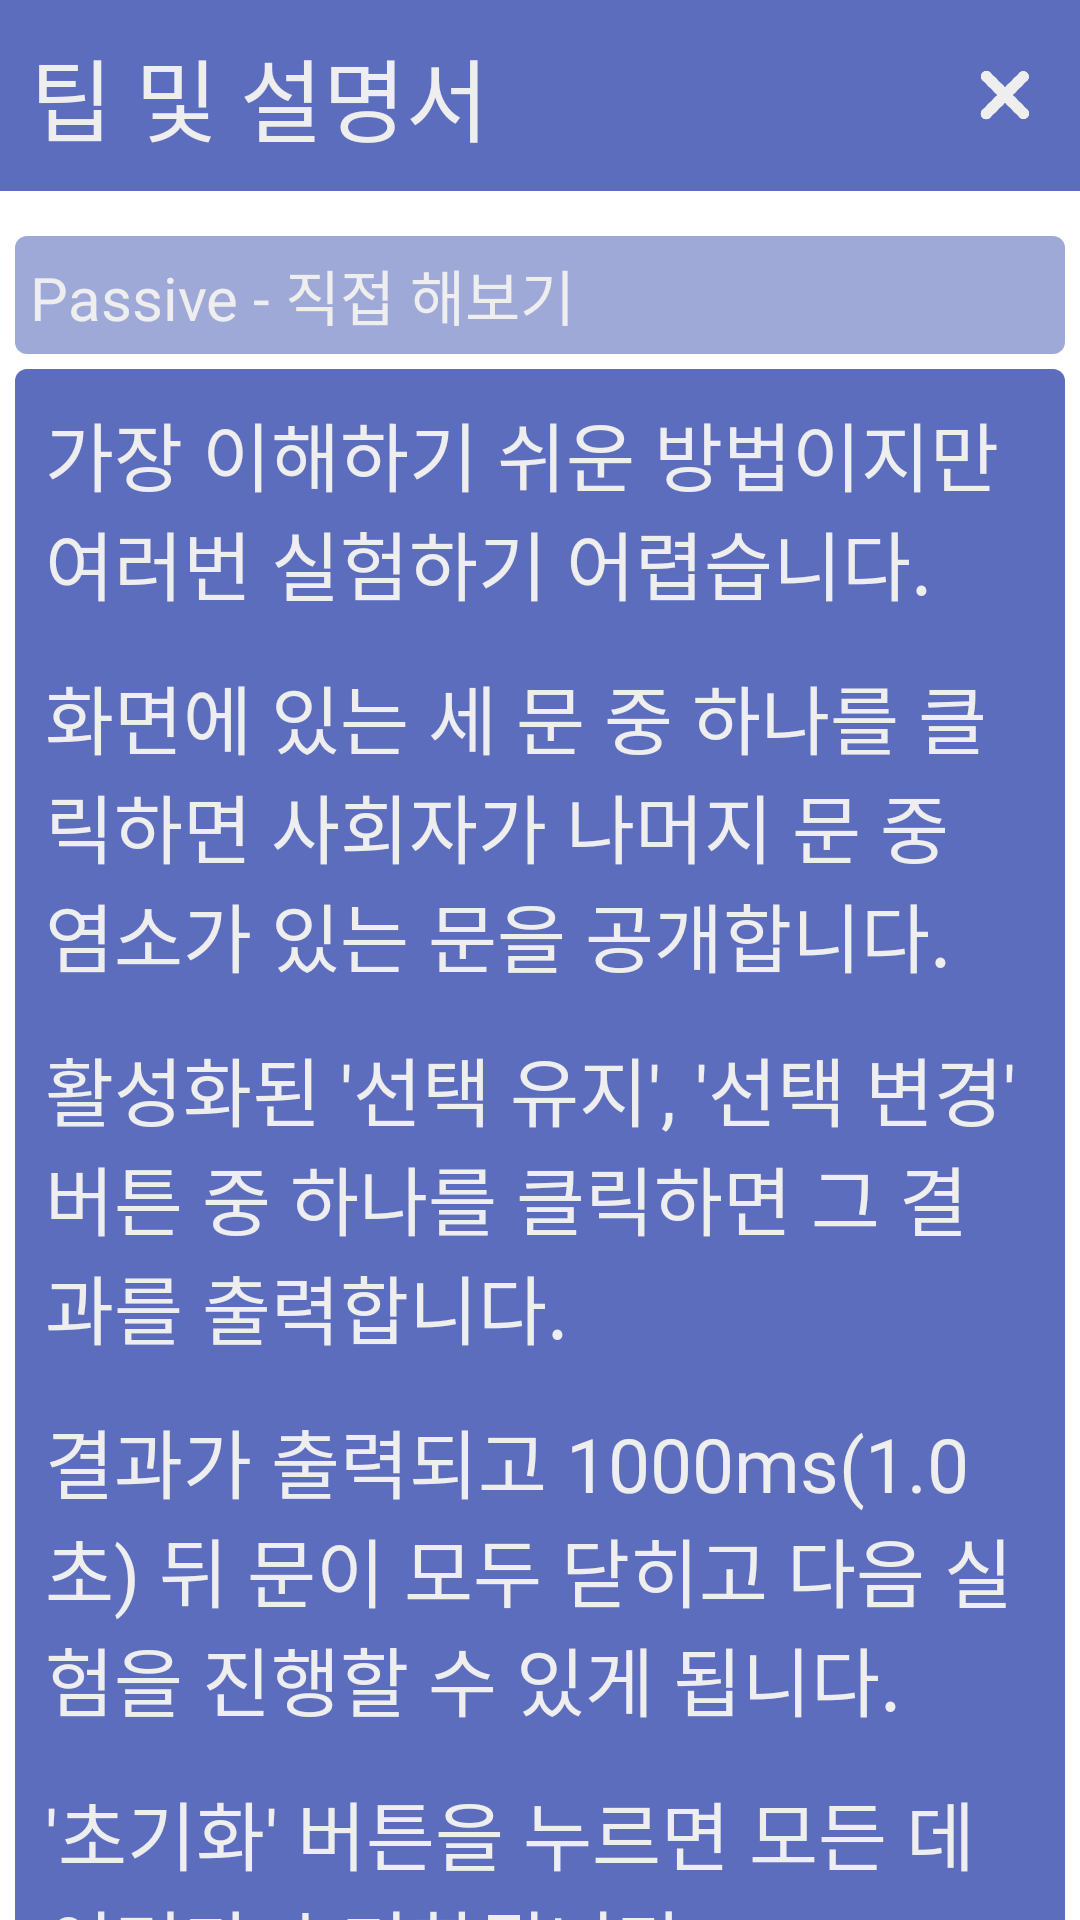

Named icons in this screenshot (1080w x 1920h) and their bounding boxes, bbox=(x1, y1, x2, y2):
exit: bbox=(980, 71, 1029, 120)
